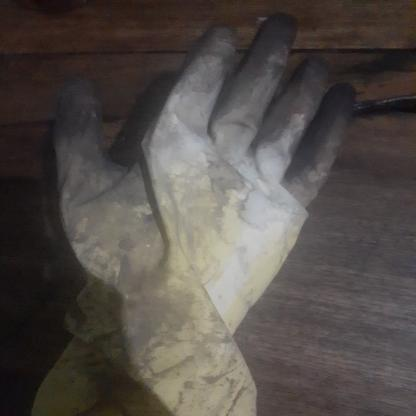gloved_hand: (45, 6, 364, 410)
